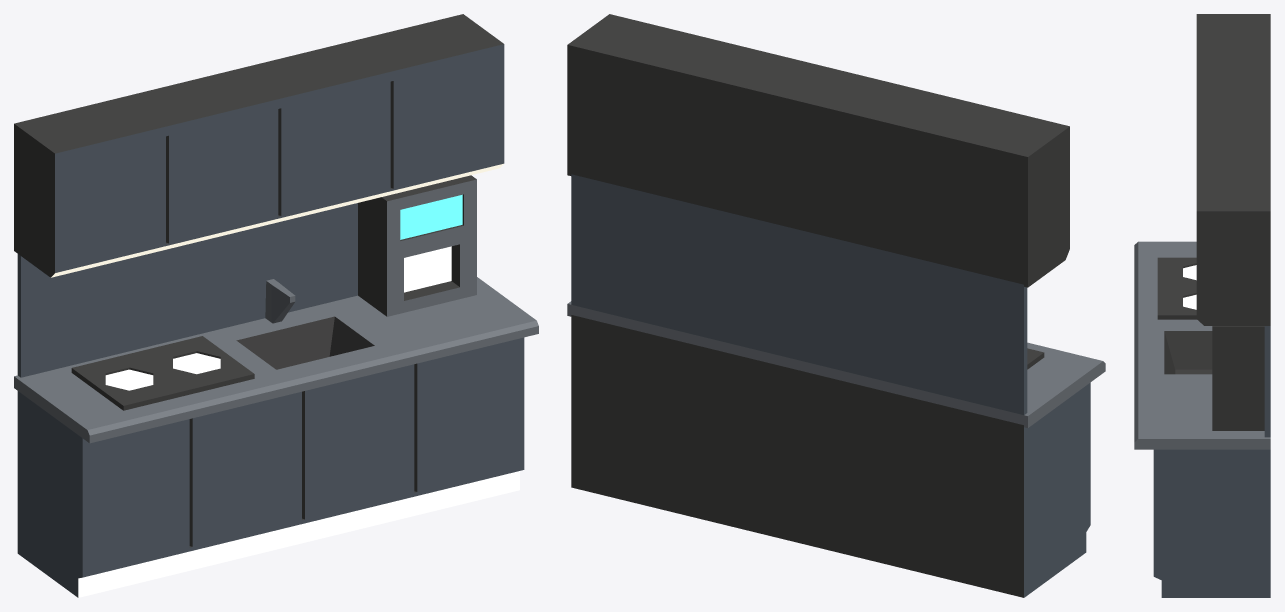
File: galley_counter.glb
3 renders of one model, left to right at view 1: azimuth 30°, elevation 25°; view 2: azimuth 150°, elevation 25°; view 3: azimuth 270°, elevation 25°, orthographic. The views are drawn at different scales.
Parts seen in each view (by area): view 1: galley_counter; view 2: galley_counter; view 3: galley_counter.
Part boxes in pixels (left/top/right/bottom): galley_counter: left=14, top=14, right=538, bottom=597; galley_counter: left=567, top=14, right=1105, bottom=597; galley_counter: left=1134, top=14, right=1270, bottom=597.
Bounding box in the file's own units: 2.4 × 2.2 × 0.7.
